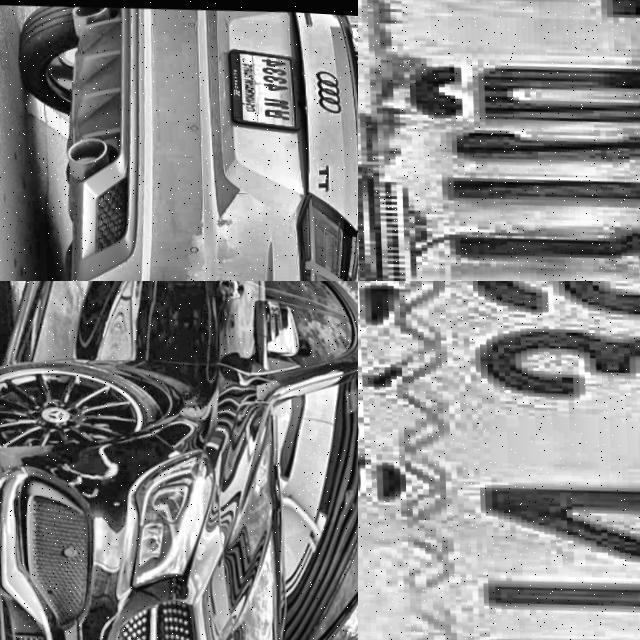license-plate: (358, 281, 640, 640), (358, 0, 640, 281), (224, 43, 299, 130)
